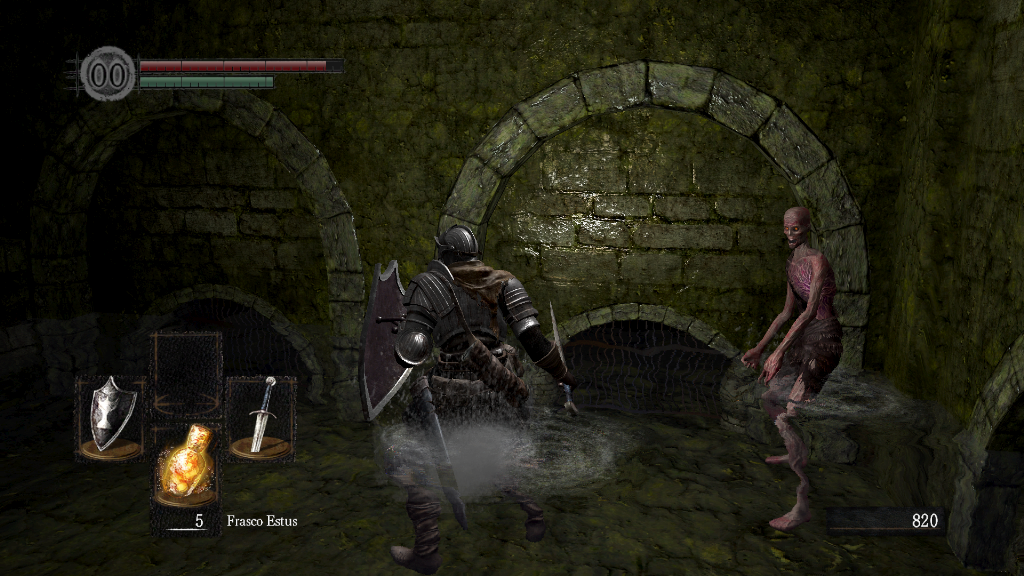health: (138, 58, 343, 71)
hollow: (739, 205, 847, 530)
humanity: (80, 45, 136, 102)
player: (361, 224, 583, 576)
souls: (825, 506, 945, 536)
stamina: (138, 74, 274, 88)
